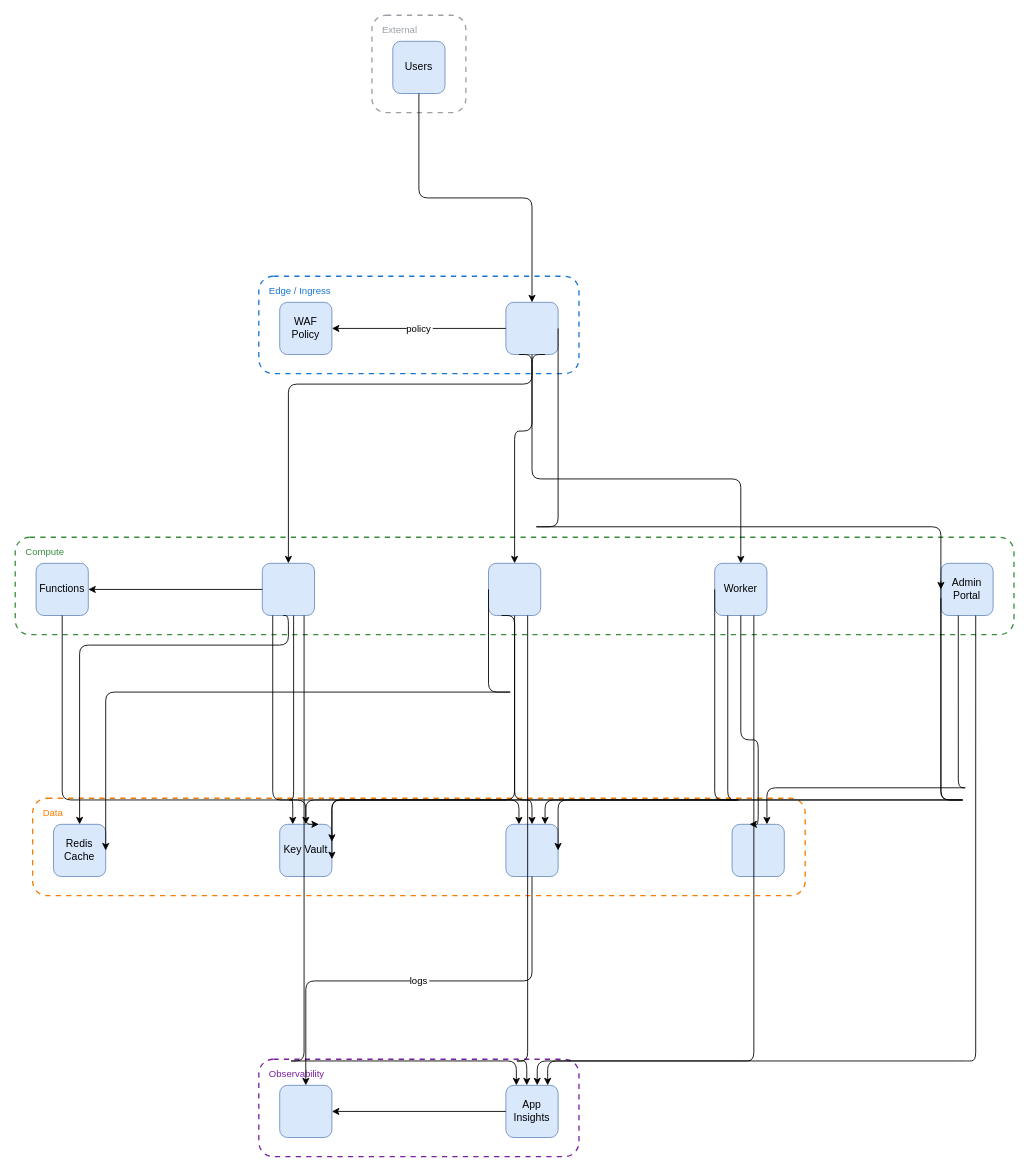
Some shapes in this 1030 by 1173 pixel diagram are drawn without their labels. Each missing label, with the centre of its shape:
"App API" goes at (x=288, y=589).
"Azure Monitor" goes at (x=305, y=1111).
"Azure SQL" goes at (x=531, y=850).
"Front Door" goes at (x=531, y=328).
"Storage" goes at (x=757, y=850).
"Web Frontend" goes at (x=514, y=589).
